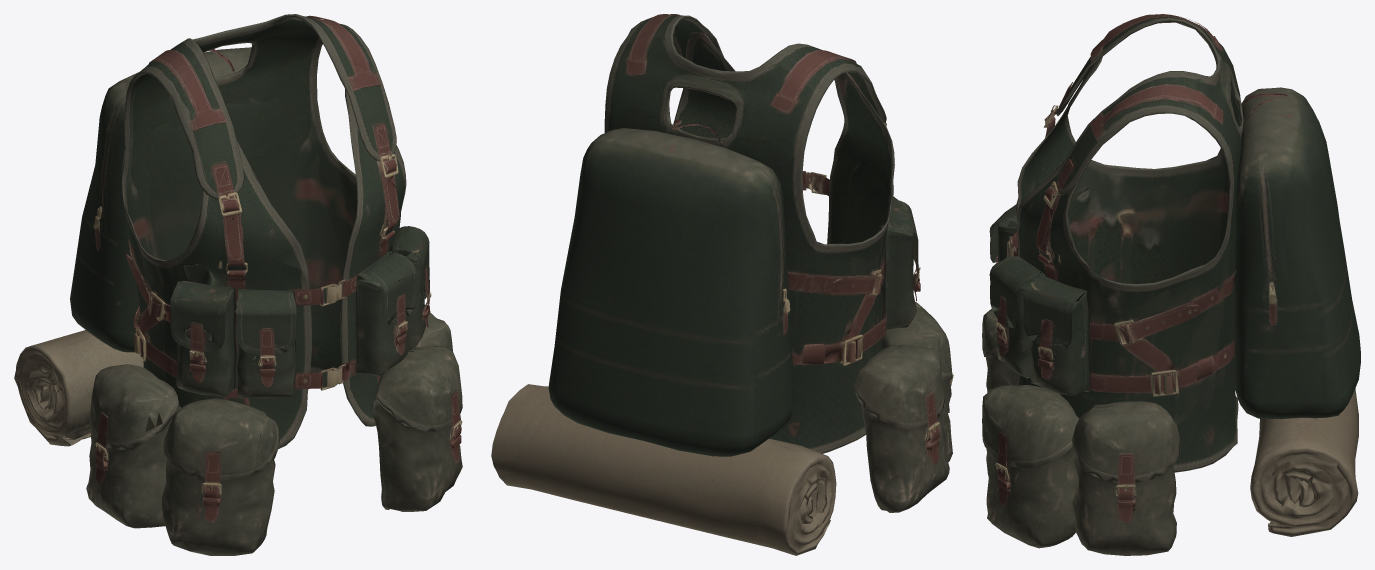
Rendered from vest_pack_12k.glb.
3 views of the same model, side by side, from view 1: azimuth 30°, elevation 25°; view 2: azimuth 150°, elevation 25°; view 3: azimuth 270°, elevation 25° (orthographic). The views are drawn at different scales.
Size of the model in its own units: 0.7769 by 0.9517 by 0.73.
1 material, 1 textured.
